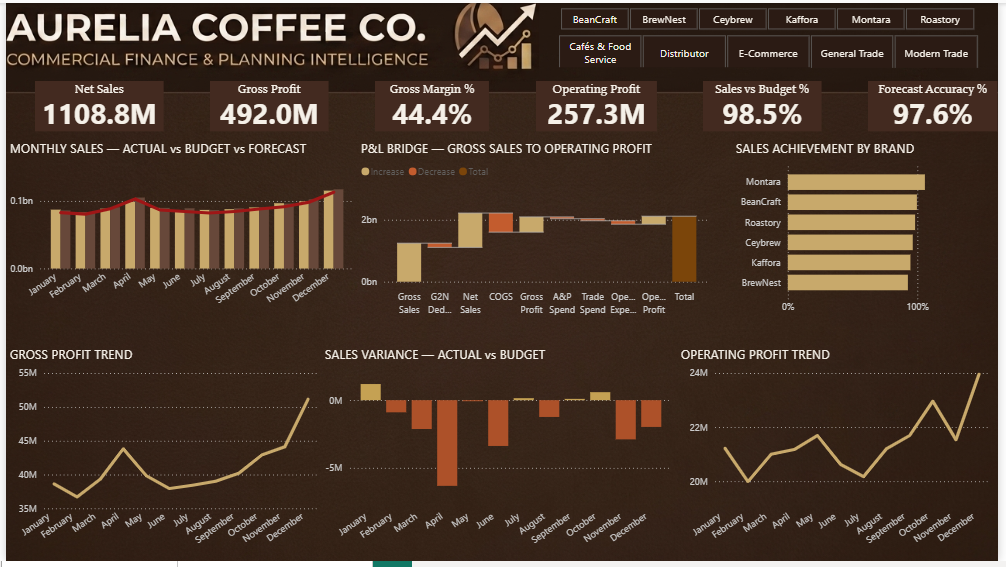

What the dashboard file says about the page in this screenshot:
{"tool":"powerbi","page":{"name":"Financial Planning & P&L","canvas":[1280,720],"ordinal":0},"visuals":[{"type":"slicer","fields":{"Values":["Financial Data.Brand"]},"box":[690.2,0,582.5,35.4],"z":0,"group":"g1"},{"type":"card","title":"Net Sales","fields":{"Values":["Financial Data.Net Sales"]},"box":[36.9,100.6,165.8,65.2],"z":0},{"type":"slicer","fields":{"Values":["Financial Data.Channel"]},"box":[687.4,35.4,589.6,48.2],"z":1000,"group":"g1"},{"type":"card","title":"Gross Profit","fields":{"Values":["Financial Data.Gross Profit"]},"box":[262.8,100.6,153.1,65.2],"z":1000},{"type":"card","title":"Gross Margin %","fields":{"Values":["Financial Data.Gross Margin%"]},"box":[475.9,100.6,147.4,65.2],"z":2000},{"type":"card","title":"Operating Profit","fields":{"Values":["Financial Data.Operating Profit"]},"box":[683.4,100.6,155.9,65.2],"z":3000},{"type":"card","title":"Sales vs Budget %","fields":{"Values":["Financial Data.Sales Achievement %"]},"box":[899.4,100.6,153.1,65.2],"z":4000},{"type":"card","title":"Forecast Accuracy %","fields":{"Values":["Financial Data.Forecast Accuracy %"]},"box":[1112.6,100.6,167.2,65.2],"z":5000},{"type":"lineClusteredColumnComboChart","title":"MONTHLY SALES — ACTUAL vs BUDGET vs FORECAST","fields":{"Y":["Financial Data.Actual Sales","Financial Data.Sales Budget"],"Category":["Financial Data.Month"],"Y2":["Financial Data.Sales Forecast"]},"box":[0,177.2,453.5,233.9],"z":6000},{"type":"waterfallChart","title":"P&L BRIDGE — GROSS SALES TO OPERATING PROFIT","fields":{"Y":["Financial Data.P&L Waterfall Value"],"Category":["P&L Waterfall.P&L Item"]},"box":[453.5,177.2,459.2,233.9],"z":7000},{"type":"clusteredColumnChart","title":"SALES VARIANCE — ACTUAL vs BUDGET","fields":{"Category":["Financial Data.Month"],"Y":["Financial Data.Sales Variance"]},"box":[406.7,442.7,457.7,277.6],"z":8000},{"type":"clusteredBarChart","title":"SALES ACHIEVEMENT BY BRAND","fields":{"Category":["Financial Data.Brand"],"Y":["Financial Data.Sales Achievement %"]},"box":[936.9,177.2,343,233.9],"z":9000},{"type":"lineChart","title":"GROSS PROFIT TREND","fields":{"Category":["Financial Data.Month"],"Y":["Sum(Financial Data.Gross Profit LKR)"]},"box":[0,442.7,406.7,277.6],"z":10000},{"type":"lineChart","title":"OPERATING PROFIT TREND","fields":{"Category":["Financial Data.Month"],"Y":["Financial Data.Operating Profit"]},"box":[865.8,442.7,406.7,277.6],"z":11000},{"type":"group","id":"g1","title":"Group 1","box":[687.4,0,589.6,83.6],"z":12000}]}

Visuals, with their boxes in screenshot pixels (x1, y1, x2, y2), scaled from the page's 1280x720 canvas onto the 1006x567 screenshot:
slicer - Financial Data.Brand: 542:0:1000:28
"Net Sales" card: 29:79:159:131
slicer - Financial Data.Channel: 540:28:1004:66
"Gross Profit" card: 207:79:327:131
"Gross Margin %" card: 374:79:490:131
"Operating Profit" card: 537:79:660:131
"Sales vs Budget %" card: 707:79:827:131
"Forecast Accuracy %" card: 874:79:1005:131
"MONTHLY SALES — ACTUAL vs BUDGET vs FORECAST" lineClusteredColumnComboChart: 0:140:356:324
"P&L BRIDGE — GROSS SALES TO OPERATING PROFIT" waterfallChart: 356:140:717:324
"SALES VARIANCE — ACTUAL vs BUDGET" clusteredColumnChart: 320:349:679:566
"SALES ACHIEVEMENT BY BRAND" clusteredBarChart: 736:140:1005:324
"GROSS PROFIT TREND" lineChart: 0:349:320:566
"OPERATING PROFIT TREND" lineChart: 680:349:1000:566
"Group 1" group: 540:0:1004:66
